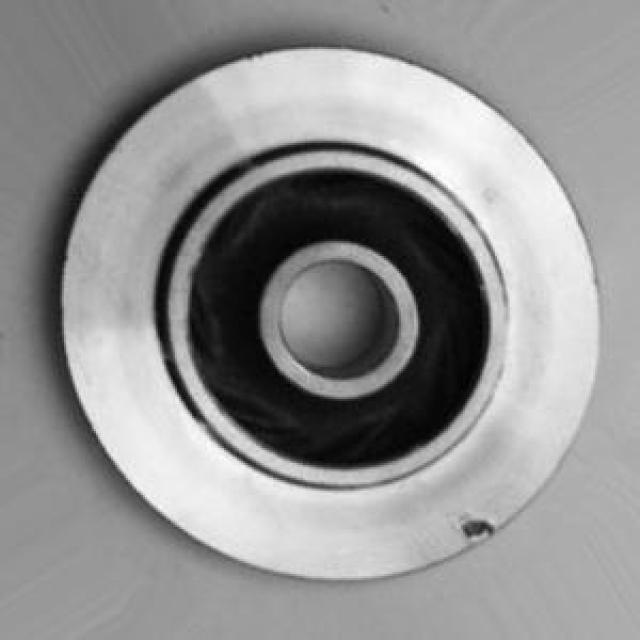Defect: (458, 511, 498, 541)
